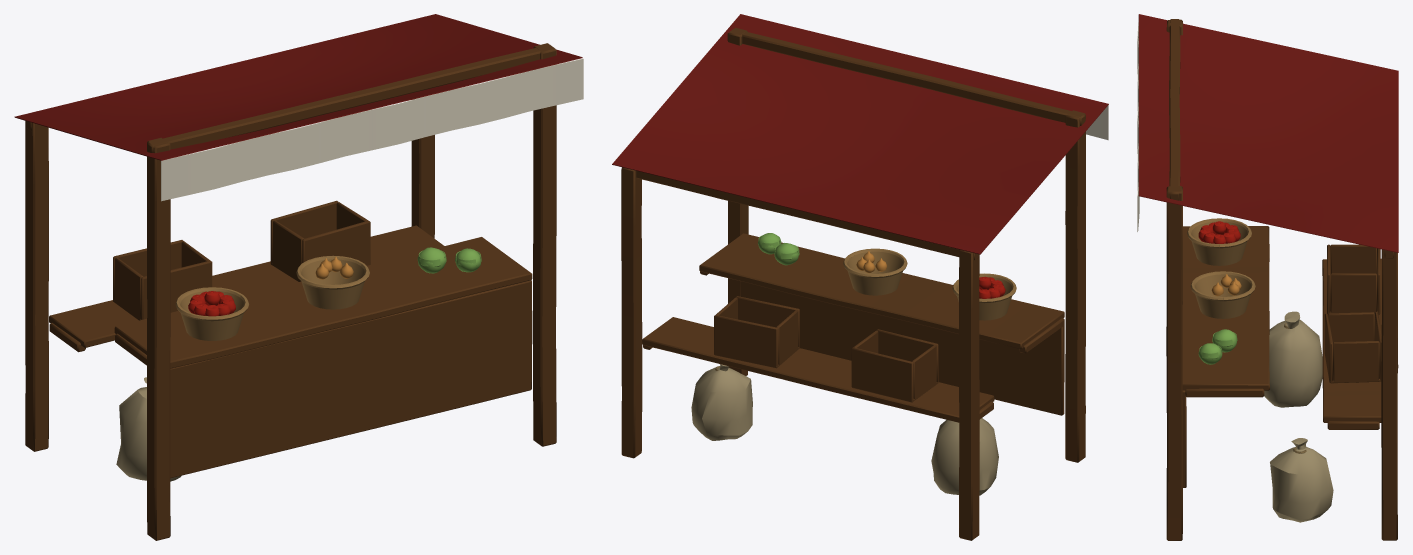
The model's file is marktstand.glb.
3 views of the same model, side by side, from view 1: azimuth 30°, elevation 25°; view 2: azimuth 150°, elevation 25°; view 3: azimuth 270°, elevation 25° (orthographic). The views are drawn at different scales.
Visible parts, largest first — view 1: marktstand; view 2: marktstand; view 3: marktstand.
Boxes of the visible parts, <box> form: marktstand: <box>14,14,583,540</box>; marktstand: <box>612,14,1108,540</box>; marktstand: <box>1137,14,1398,540</box>.
Bounding box in the file's own units: 2.4 × 2.16 × 1.46.
